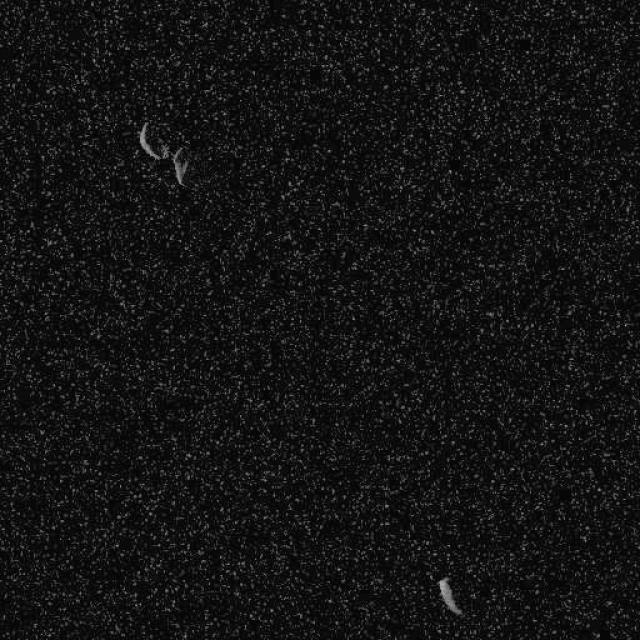D2: (138, 120, 168, 160), (437, 575, 462, 616), (170, 145, 189, 186)
